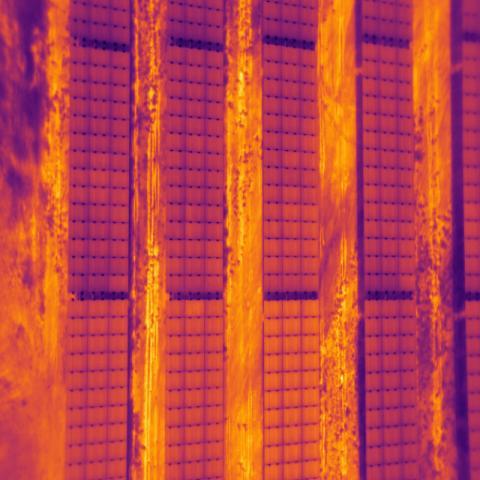fault: (185, 300, 204, 317)
